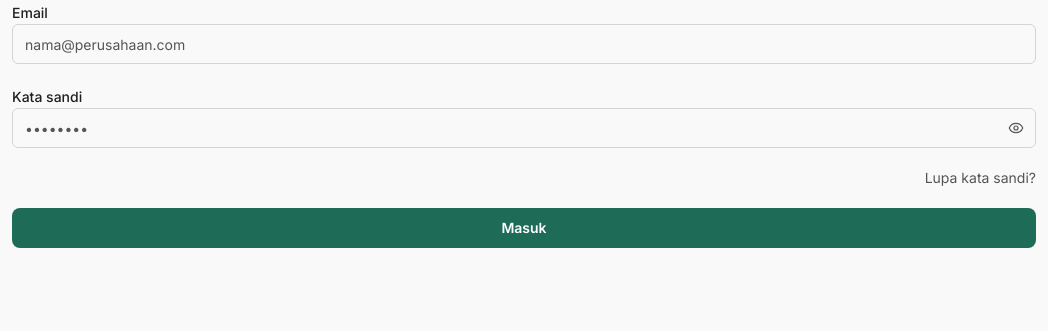
LoginForm UI error rendering and behavior › displays clean fallback error on 502 HTML response in UI
In the field labelled "Email": point(524, 44) [12, 24, 1036, 64], type "user@example.com"
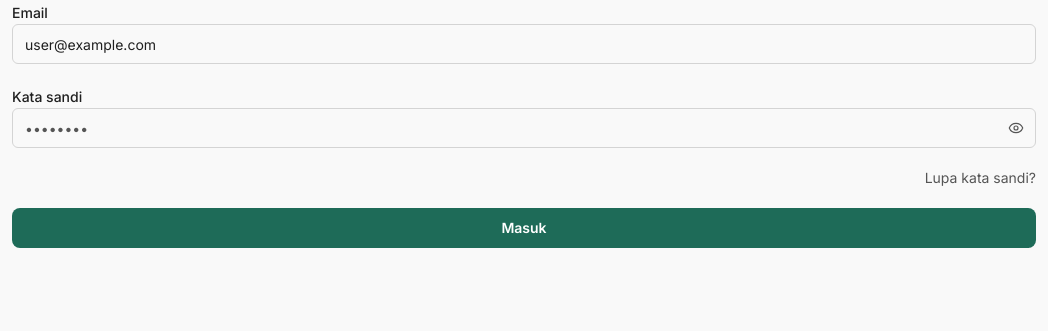
In the password field labelled "Kata sandi": point(524, 128) [12, 108, 1036, 148], type "password123"
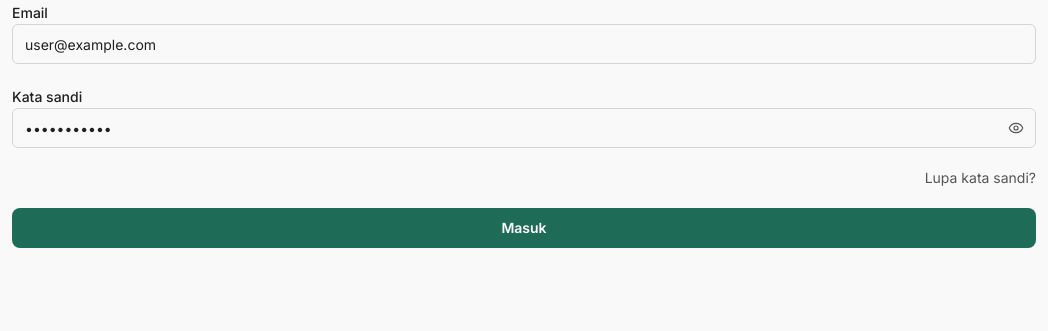
Click the button "Masuk": point(524, 228) [12, 208, 1036, 248]
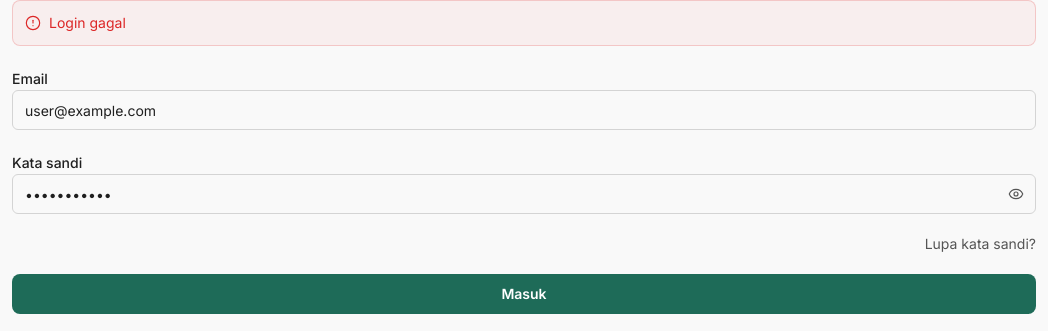
Expected: the text with test id "login-error-text" reads "Login gagal", [49, 14, 126, 31]
